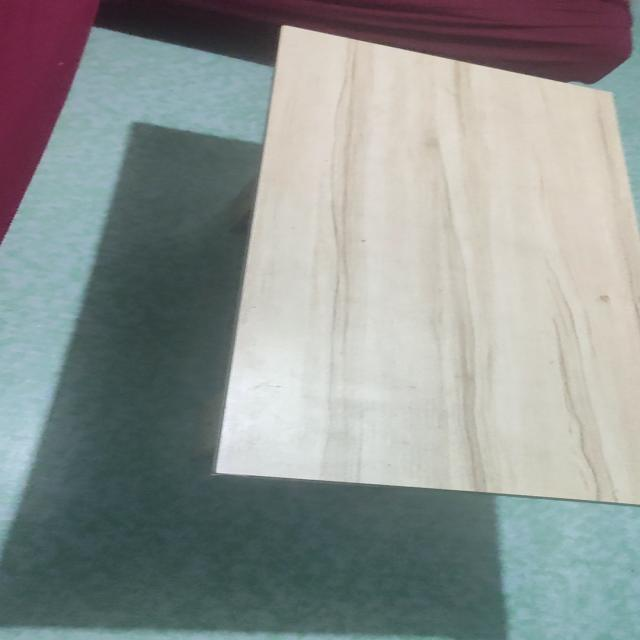table: (207, 19, 627, 546)
